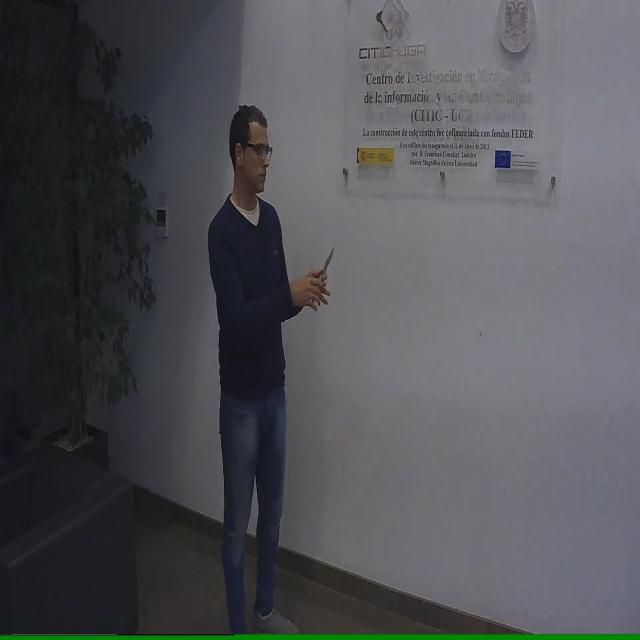knife: (312, 240, 337, 302)
